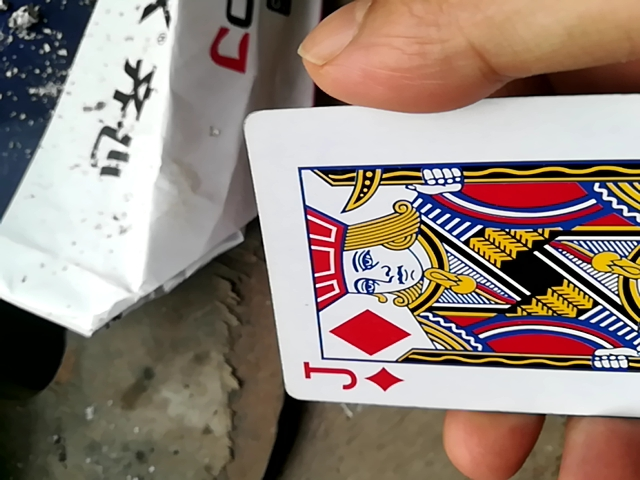fk j: (245, 79, 640, 416)
